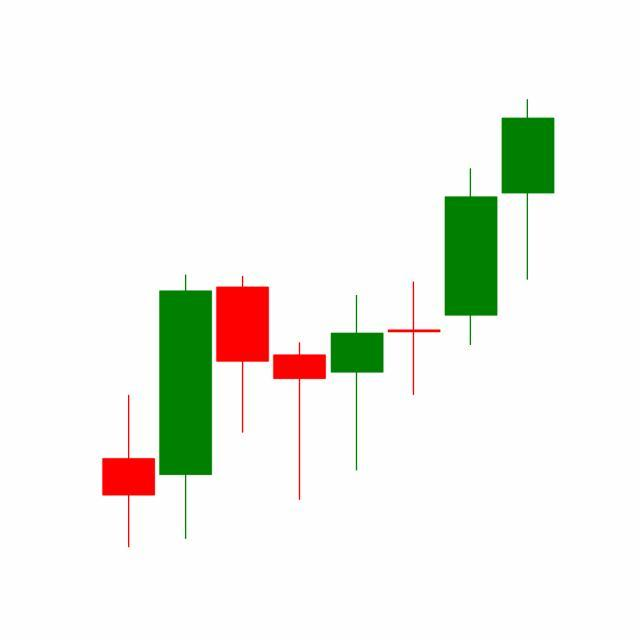Hikkake Pattern: (214, 166, 501, 505)
